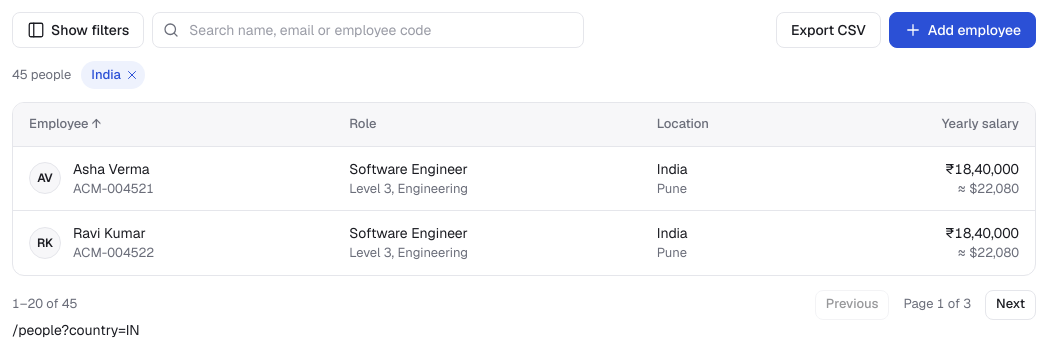
Scenario: People results › pages through the results, keeping the filters
Check: the text "1–20 of 45" is shown, box [12, 295, 77, 314]
Check: the button "Previous" is disabled, box [815, 290, 889, 320]
Click the button "Next": x=1011, y=305 [985, 290, 1036, 320]
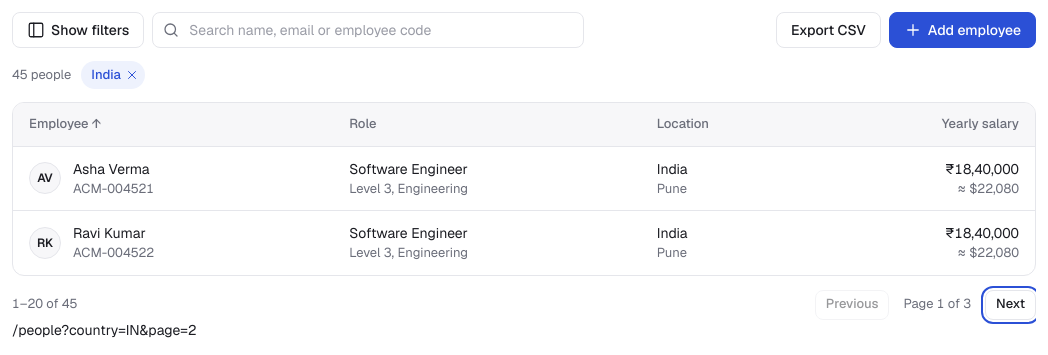
Check: the text with test id "location" reads "/people?country=IN&page=2", box [12, 321, 196, 339]
